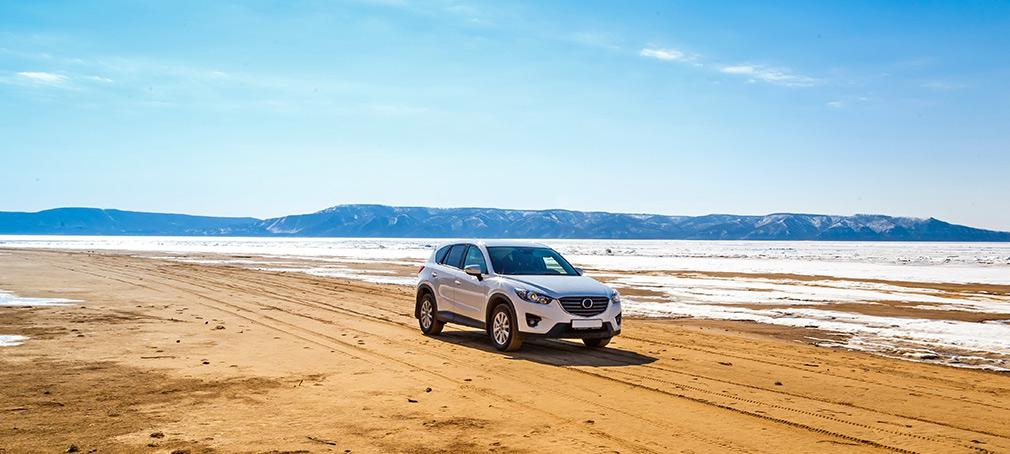car: (403, 238, 636, 364)
